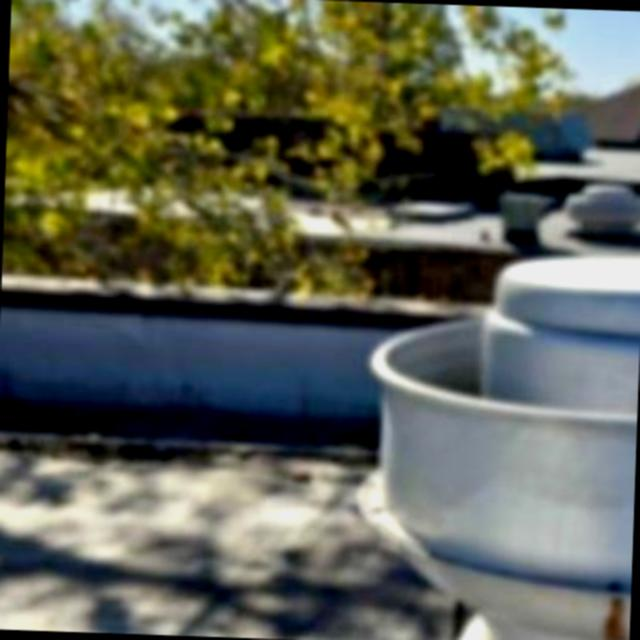GRAVITY-VENT: (345, 233, 640, 640), (555, 176, 640, 249)
